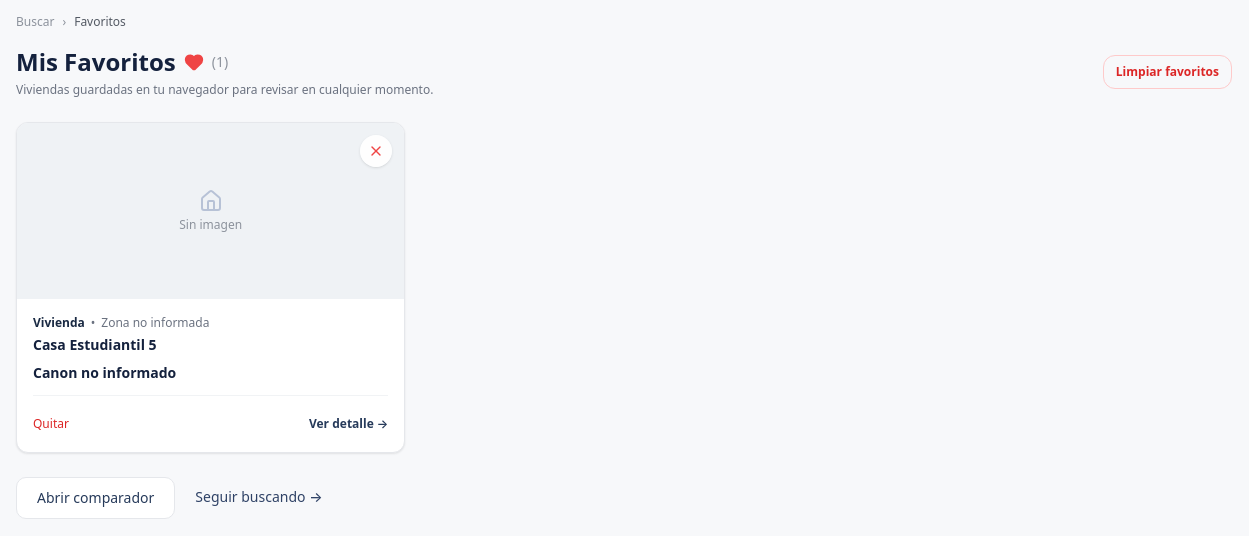
Test case: Página de Favoritos (HU Estudiante) › limpiar favoritos exige confirmación explícita en 2 pasos (sin window.confirm)
Expected: the heading "Casa Estudiantil 5" is shown, 33,335 -> 157,354
Note: Paso 1: arma la confirmación (no borra todavía).
What coordinates should you click on to do the following:
click the button "Limpiar favoritos"
I would click on:
 (1167, 72)
Its box is 1103,55 -> 1232,89.
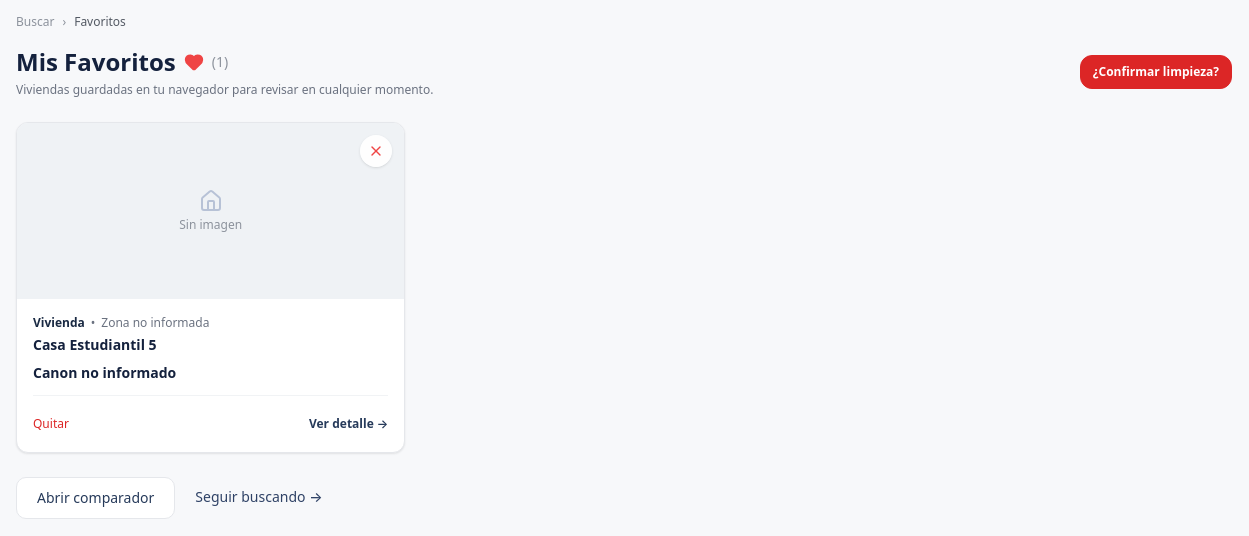
Expected: the text "No tienes favoritos guardados" is not shown
Expected: the button "¿Confirmar limpieza?" is shown
What coordinates should you click on to do the following:
click the button "¿Confirmar limpieza?"
I would click on:
 (1156, 72)
Its box is 1080,55 -> 1232,89.
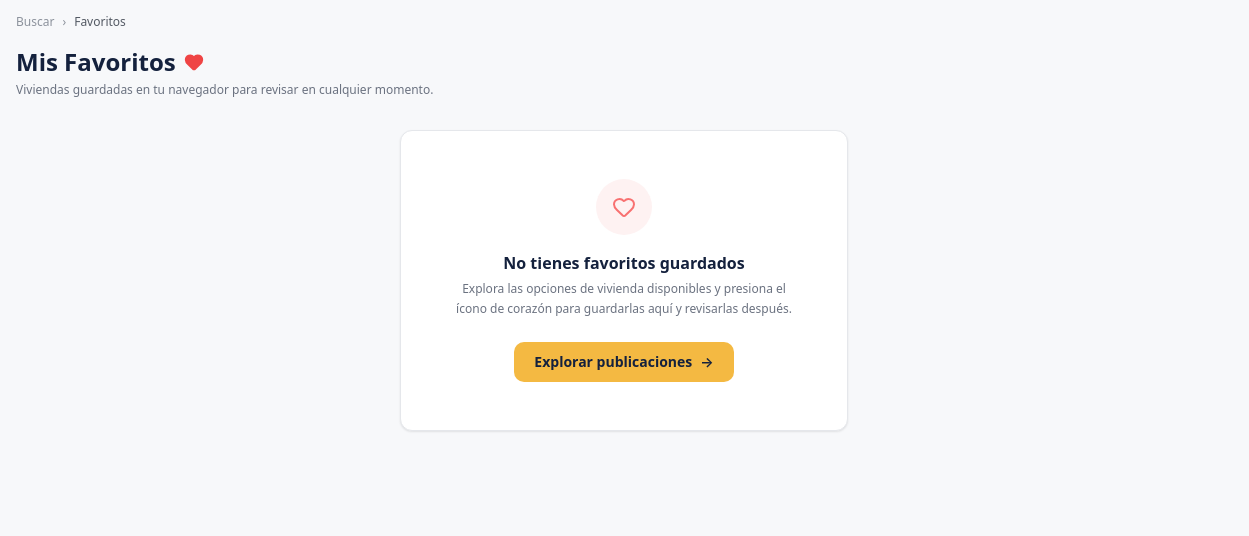
Expected: the heading "No tienes favoritos guardados" is shown, 503,252 -> 745,274
